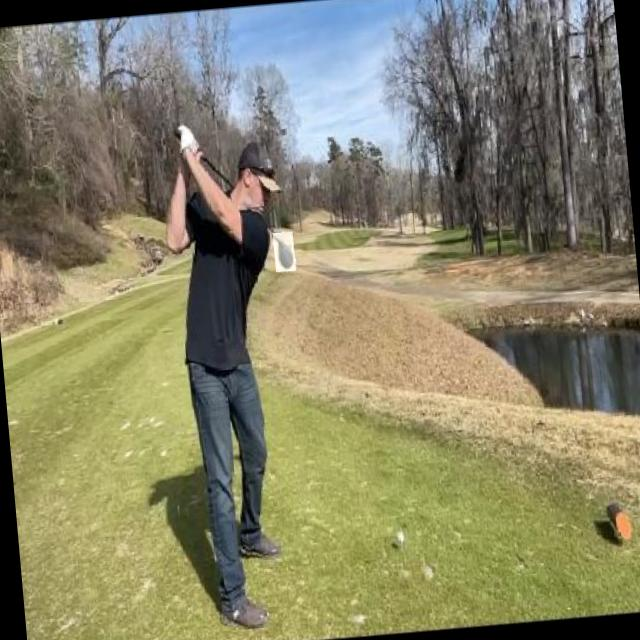club head: (272, 231, 296, 272)
